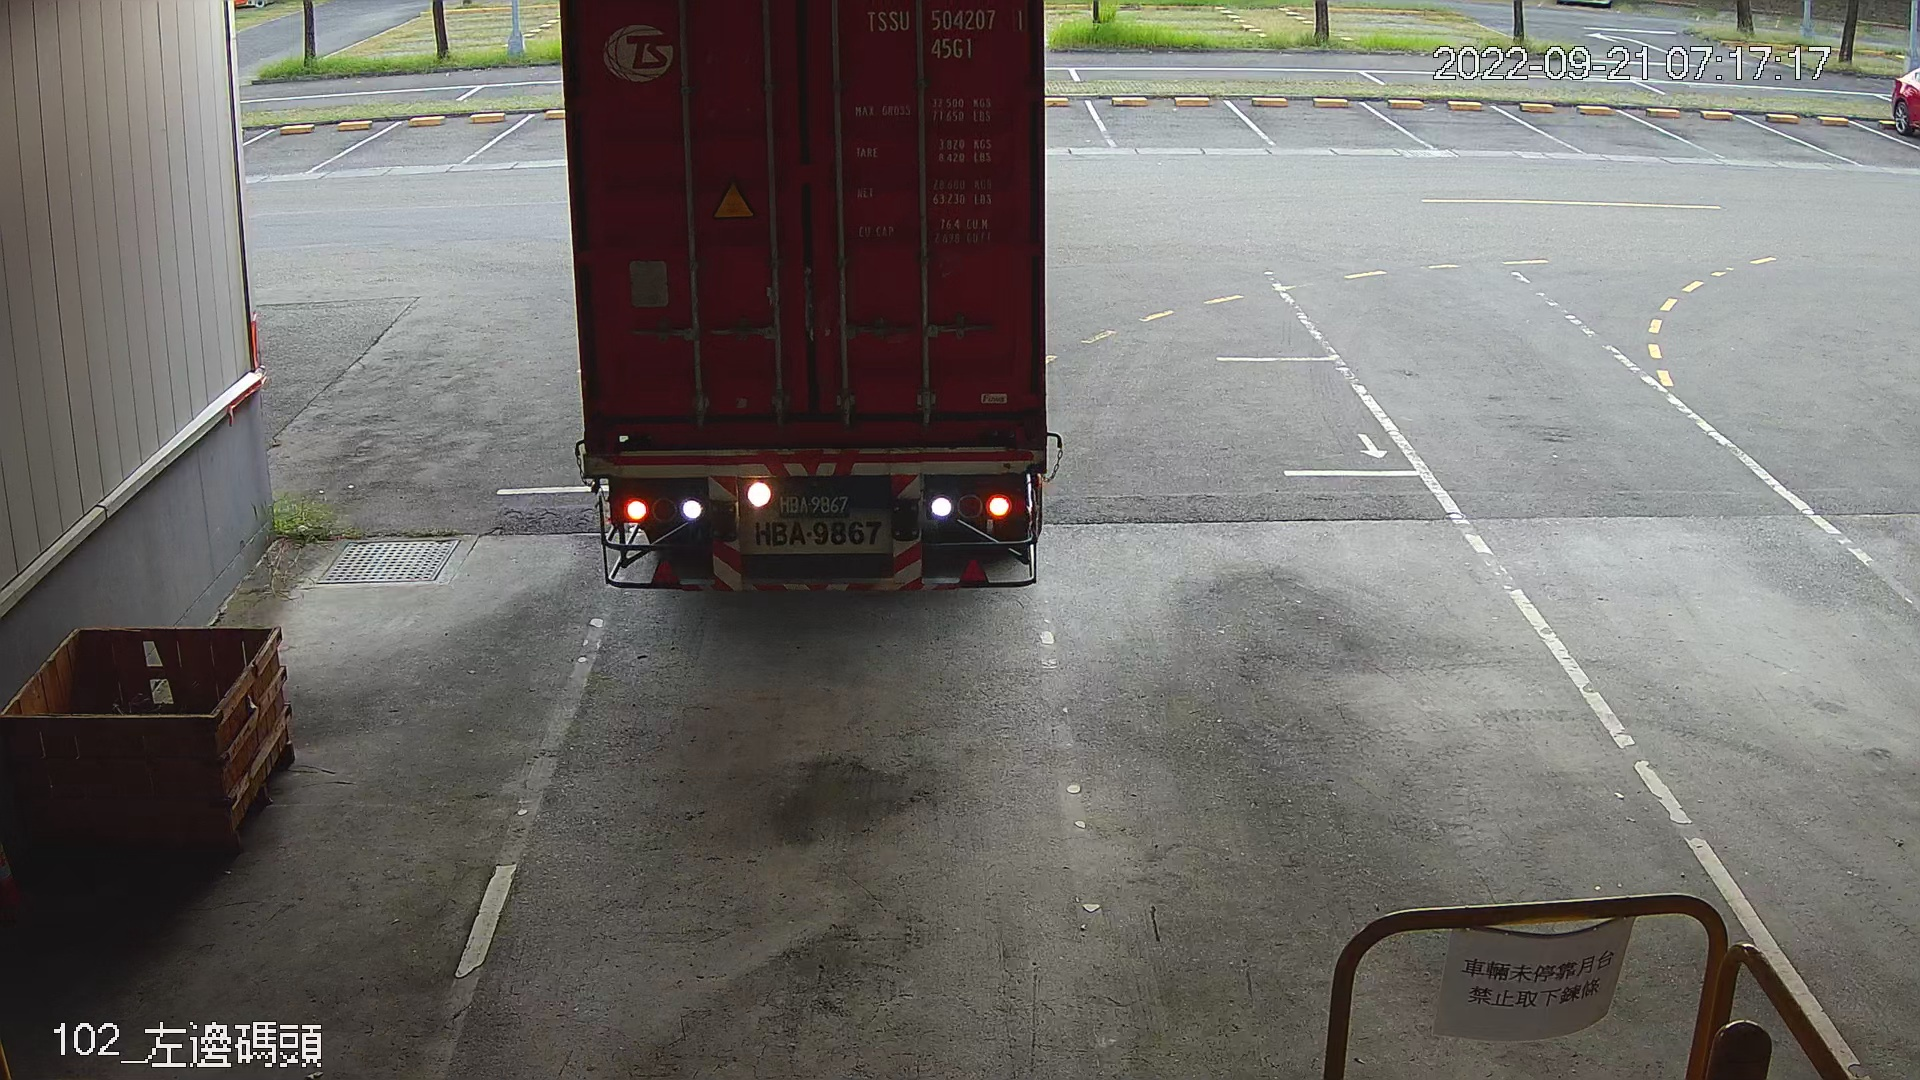container: (860, 3, 1034, 63)
